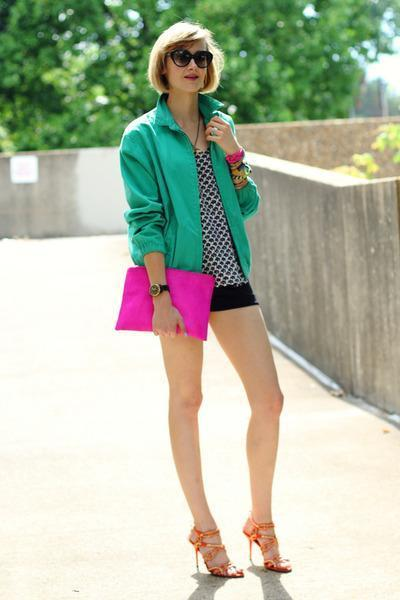bag: (115, 266, 217, 340)
dress: (196, 156, 258, 311)
jacket: (120, 93, 258, 275)
shoe: (189, 521, 290, 583)
sunglass: (164, 39, 203, 67)
